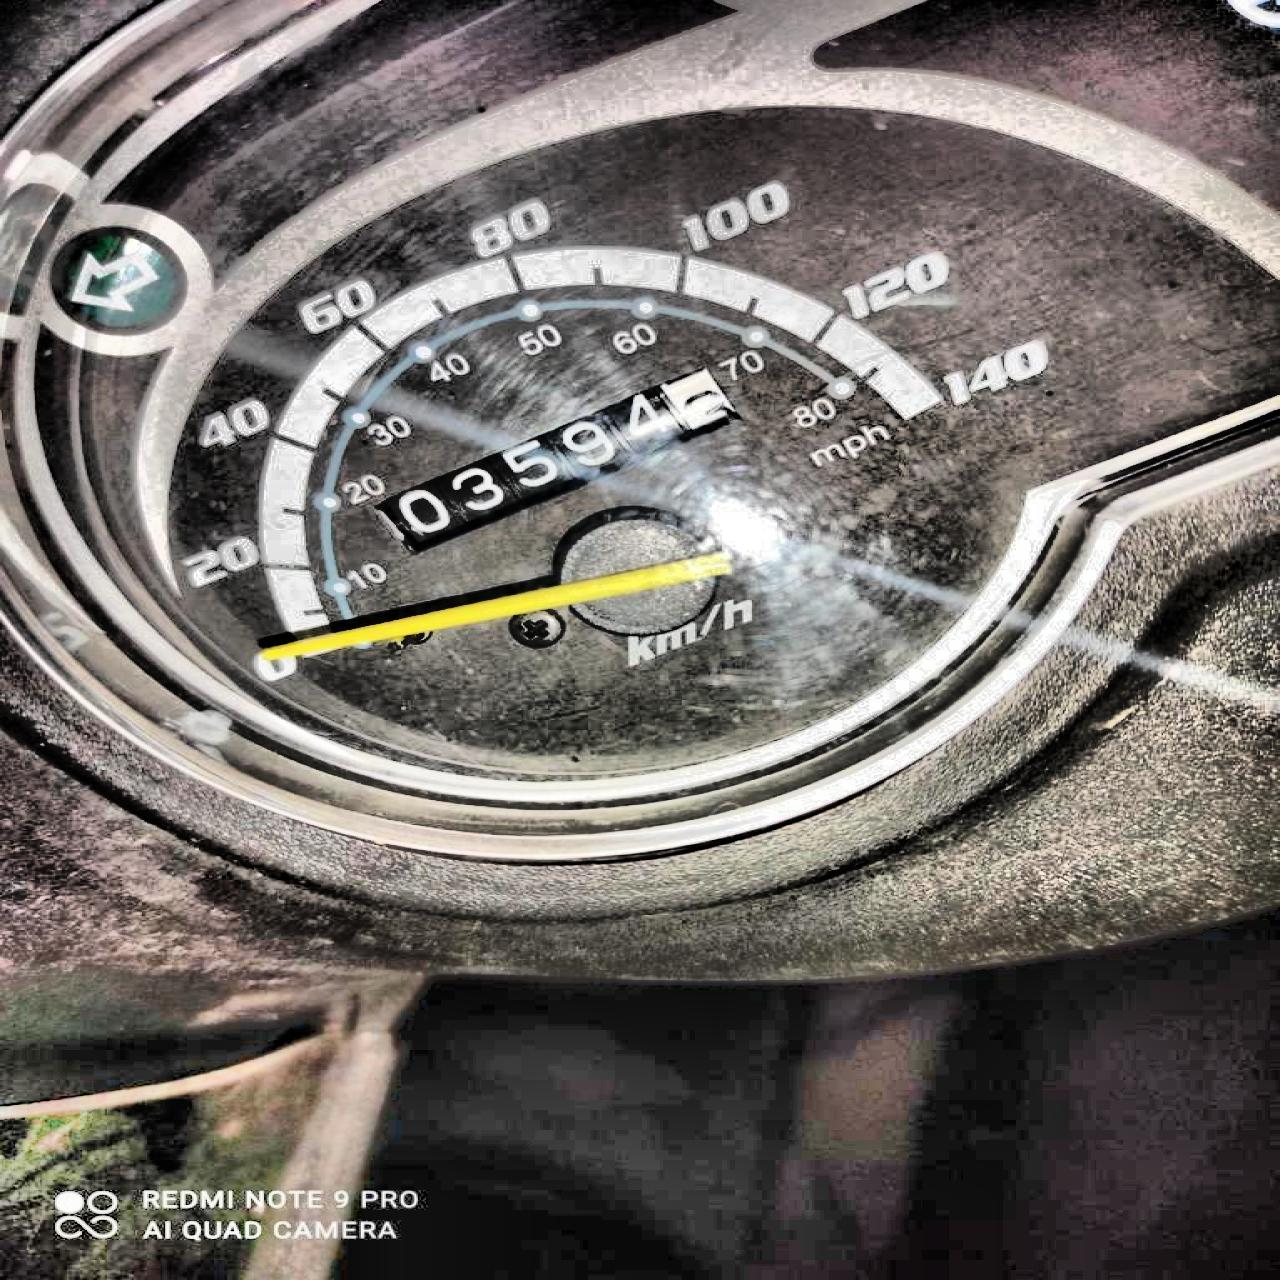0: (395, 488, 451, 532), (443, 350, 471, 376), (383, 413, 414, 436)
3: (444, 465, 508, 512), (673, 392, 737, 427)
4: (618, 389, 676, 440), (424, 359, 449, 384)
5: (498, 436, 557, 486)
7: (719, 354, 737, 379)
9: (558, 421, 617, 465)
odometer: (377, 359, 738, 557)
